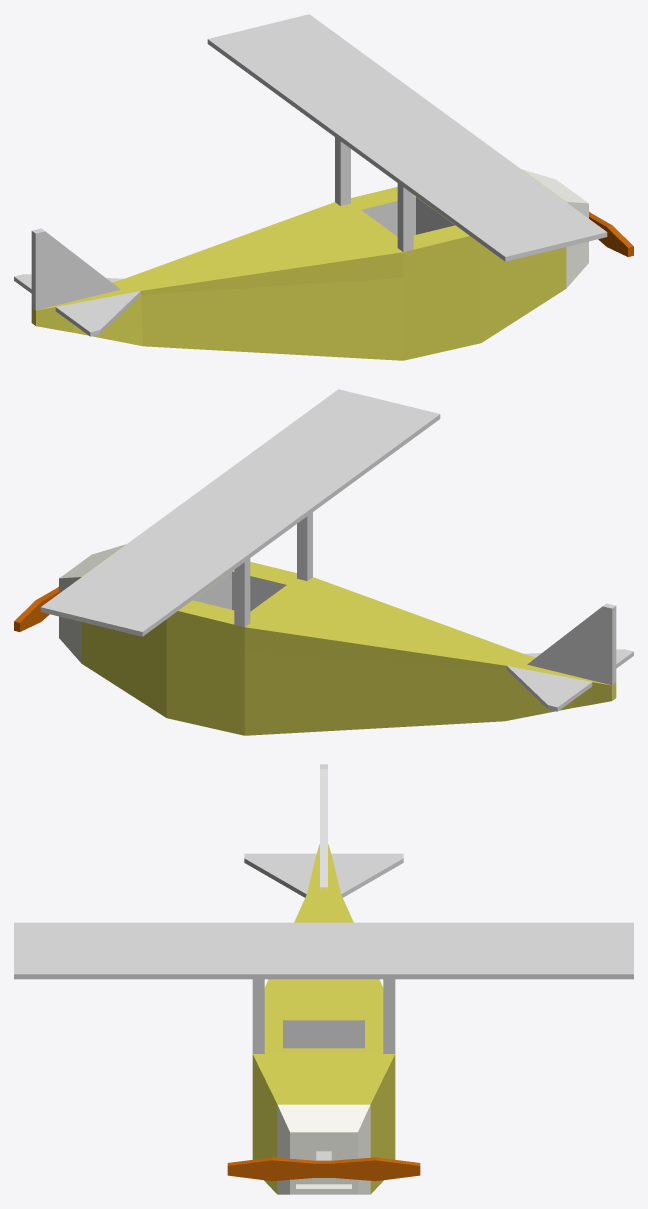
3 views of the same model, one above another, from view 1: azimuth 30°, elevation 25°; view 2: azimuth 150°, elevation 25°; view 3: azimuth 270°, elevation 25° (orthographic). The views are drawn at different scales.
Parts seen in each view (by area): view 1: Корпус, КрылоЛ, КрылоПр, Хвост, Винт, БоковойХвостПр; view 2: Корпус, КрылоЛ, КрылоПр, Хвост, Винт, БоковойХвостЛ; view 3: Корпус, Винт, КрылоЛ, КрылоПр.
Part boxes in pixels (box(x1,y1,x2,y2)): Корпус: box(21, 14, 607, 360); КрылоЛ: box(249, 64, 344, 127); КрылоПр: box(390, 167, 485, 230); Хвост: box(31, 230, 52, 310); Винт: box(589, 211, 633, 256); БоковойХвостПр: box(55, 303, 96, 336); Корпус: box(40, 389, 626, 735); КрылоЛ: box(162, 542, 257, 605); КрылоПр: box(303, 439, 398, 502); Хвост: box(595, 605, 616, 685); Винт: box(14, 586, 58, 631); БоковойХвостЛ: box(551, 678, 592, 711); Корпус: box(14, 765, 633, 1194); Винт: box(227, 1157, 420, 1181); КрылоЛ: box(395, 922, 545, 934); КрылоПр: box(102, 922, 252, 934).
Bounding box in the file's own units: 804 × 266 × 748.
